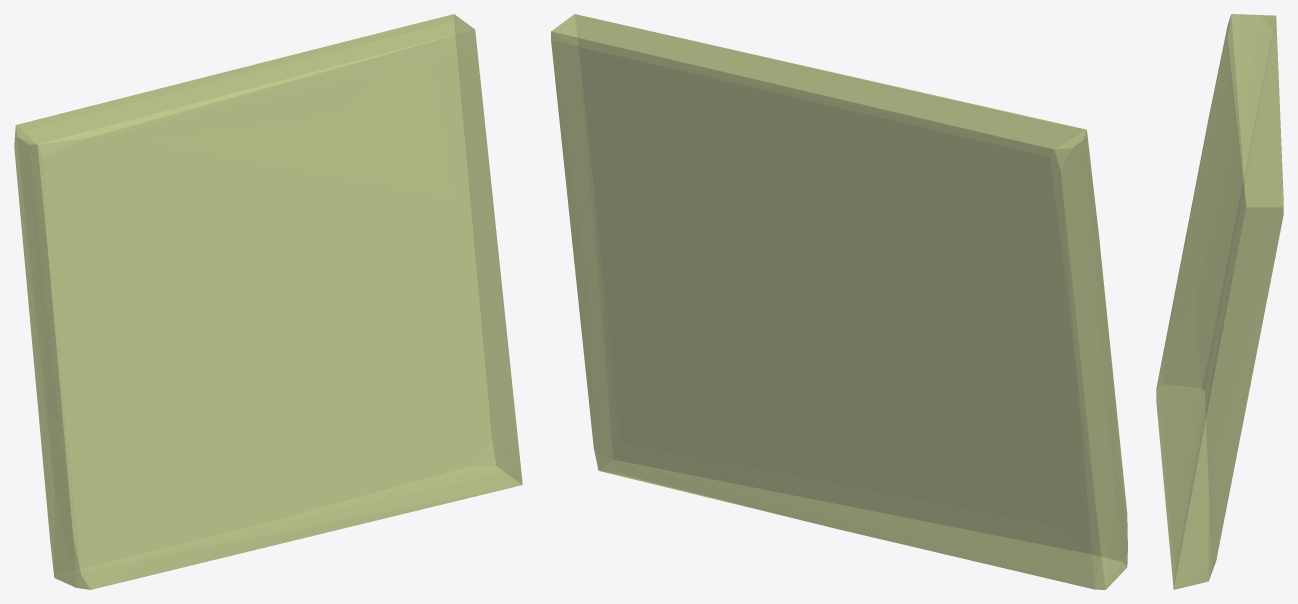
The picture shows the model from 3 angles, left to right: view 1: azimuth 30°, elevation 25°; view 2: azimuth 150°, elevation 25°; view 3: azimuth 270°, elevation 25°; orthographic projection. The views are drawn at different scales.
Visible parts, largest first — view 1: Shape_IndexedFaceSet.002_Shape_IndexedFaceSet.5653; view 2: Shape_IndexedFaceSet.002_Shape_IndexedFaceSet.5653; view 3: Shape_IndexedFaceSet.002_Shape_IndexedFaceSet.5653.
Part boxes in pixels (box(x1,y1,x2,y2)): Shape_IndexedFaceSet.002_Shape_IndexedFaceSet.5653: box(14, 14, 522, 589); Shape_IndexedFaceSet.002_Shape_IndexedFaceSet.5653: box(551, 14, 1127, 589); Shape_IndexedFaceSet.002_Shape_IndexedFaceSet.5653: box(1156, 14, 1283, 589).
Size of the model in its own units: 0.5346 by 0.4781 by 0.1456.
